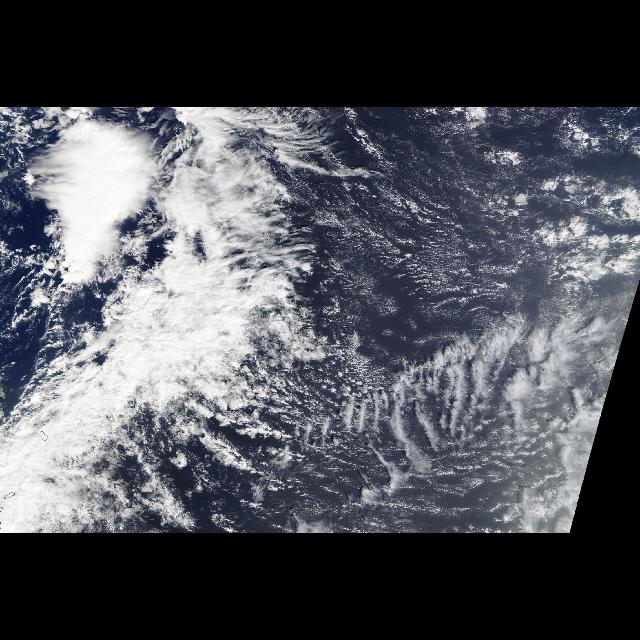Fish: (1, 107, 584, 533)
Sugar: (324, 114, 596, 348)
